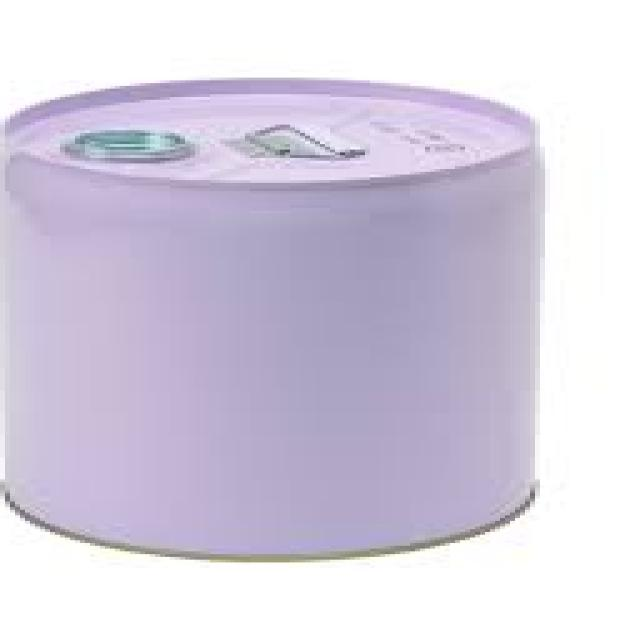organic: (3, 66, 560, 579)
